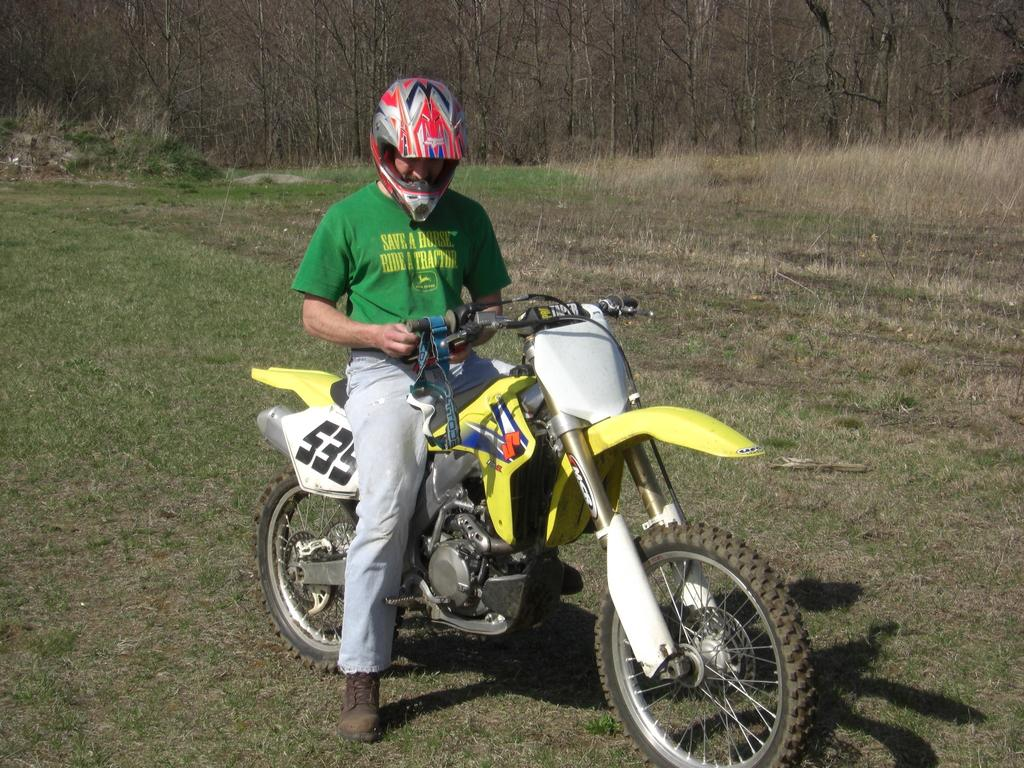helmet: (369, 78, 469, 222)
